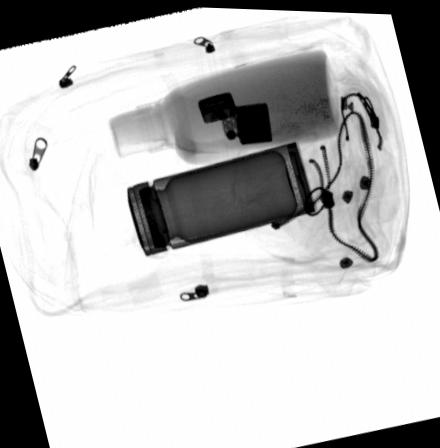Lighter: (196, 88, 271, 142)
